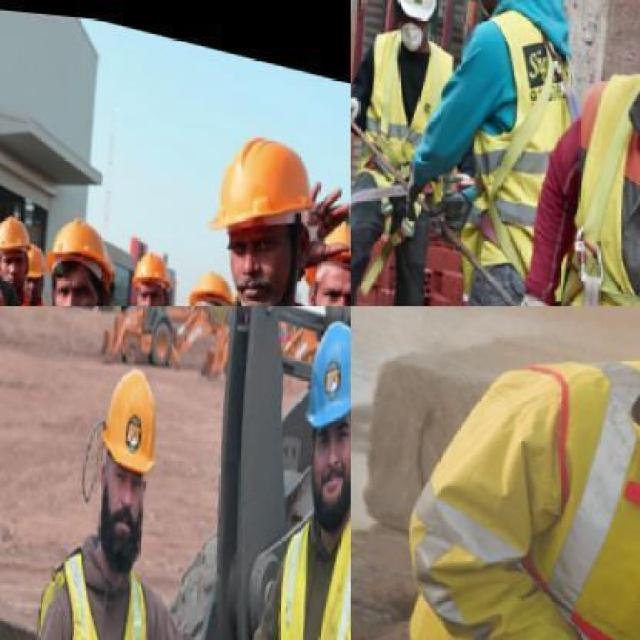Vest: (354, 306, 638, 639), (435, 0, 596, 275), (511, 40, 638, 305), (225, 451, 349, 638), (351, 14, 462, 208), (0, 526, 169, 639)
